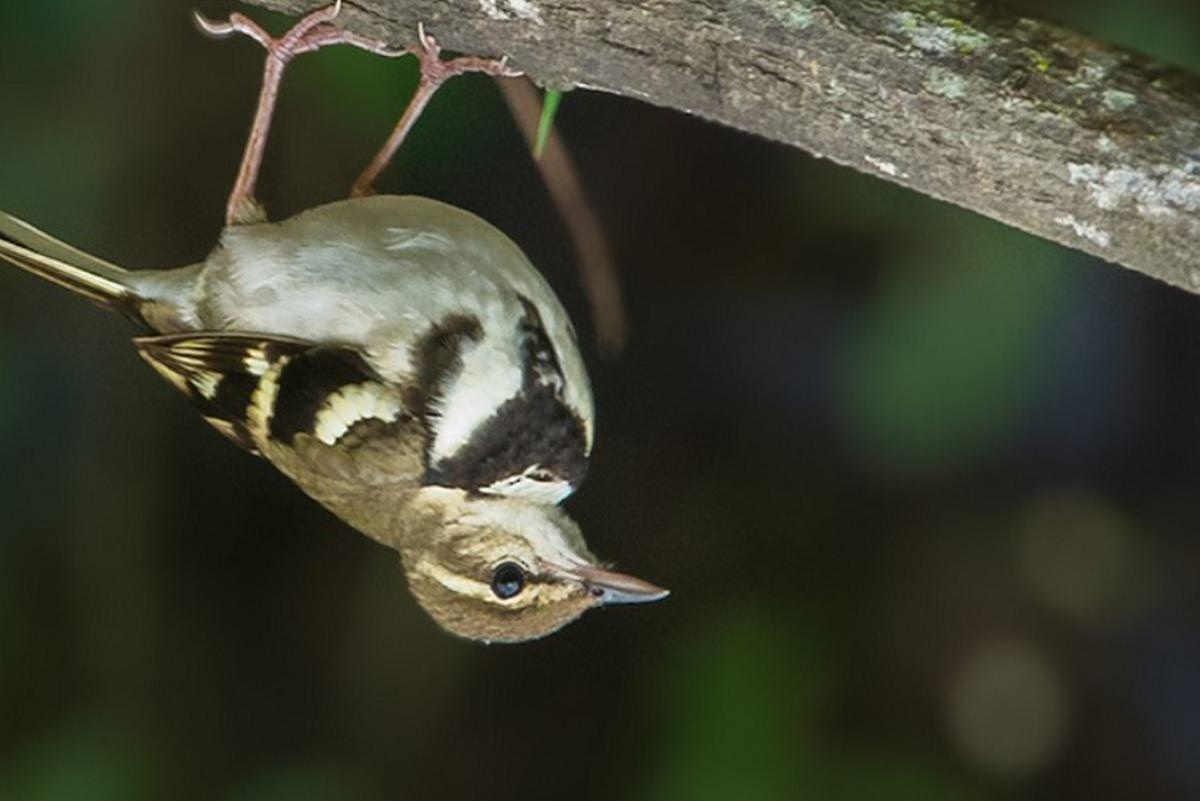wagtail: (39, 55, 678, 650)
